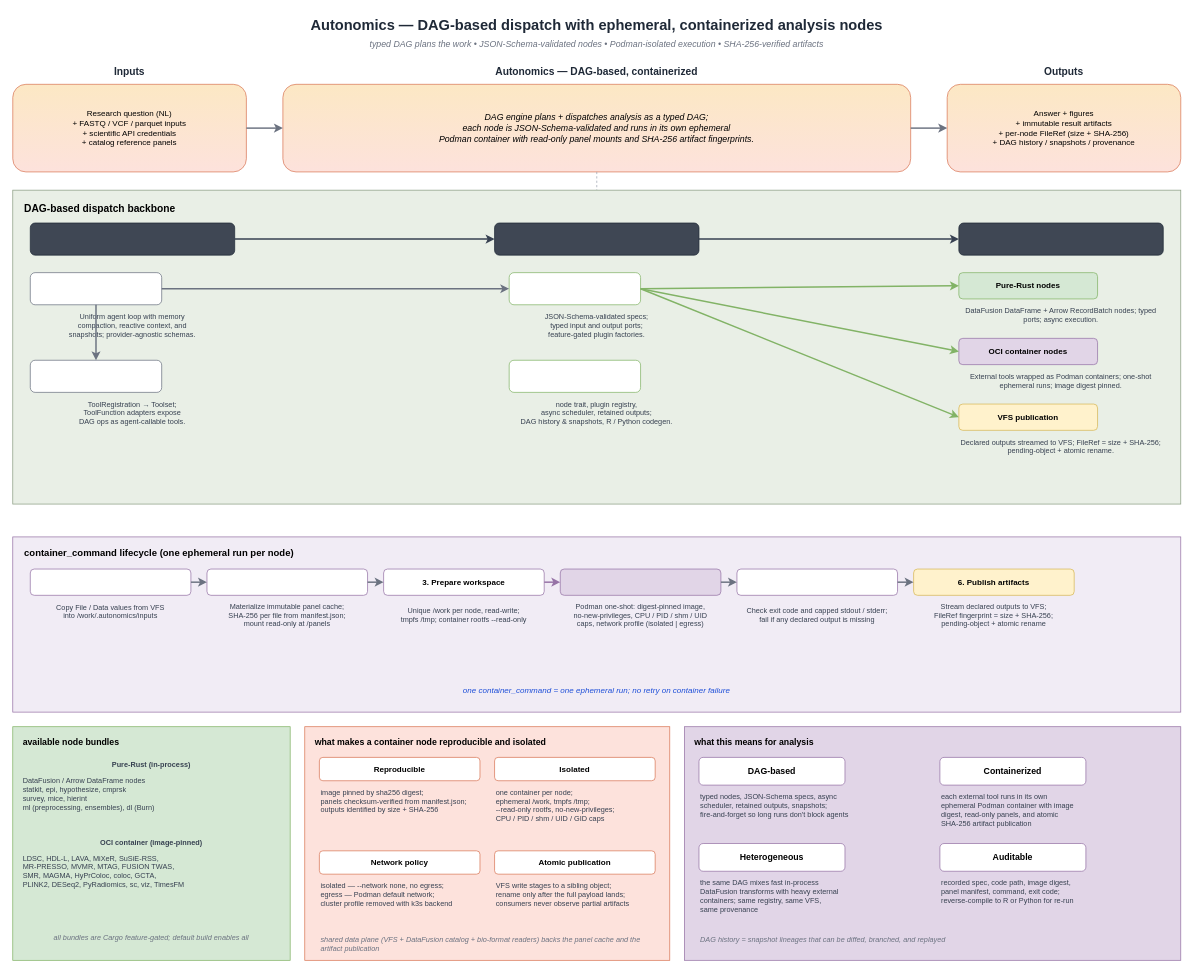
This 1194x973 diagram has some shape labels left out. Each missing label, with the centre of its shape:
1. Stage inputs: the point at 110,581
2. Verify panels: the point at 287,581
4. Run container: the point at 640,581
5. Verify outputs: the point at 817,581
Assemble DAG: the point at 596,238
DAG core / scheduler: the point at 574,376
Execute nodes: the point at 1060,238
LLM agent: the point at 96,288
Node registry: the point at 574,288
Plan DAG: the point at 132,238
Tool dispatch: the point at 96,376
